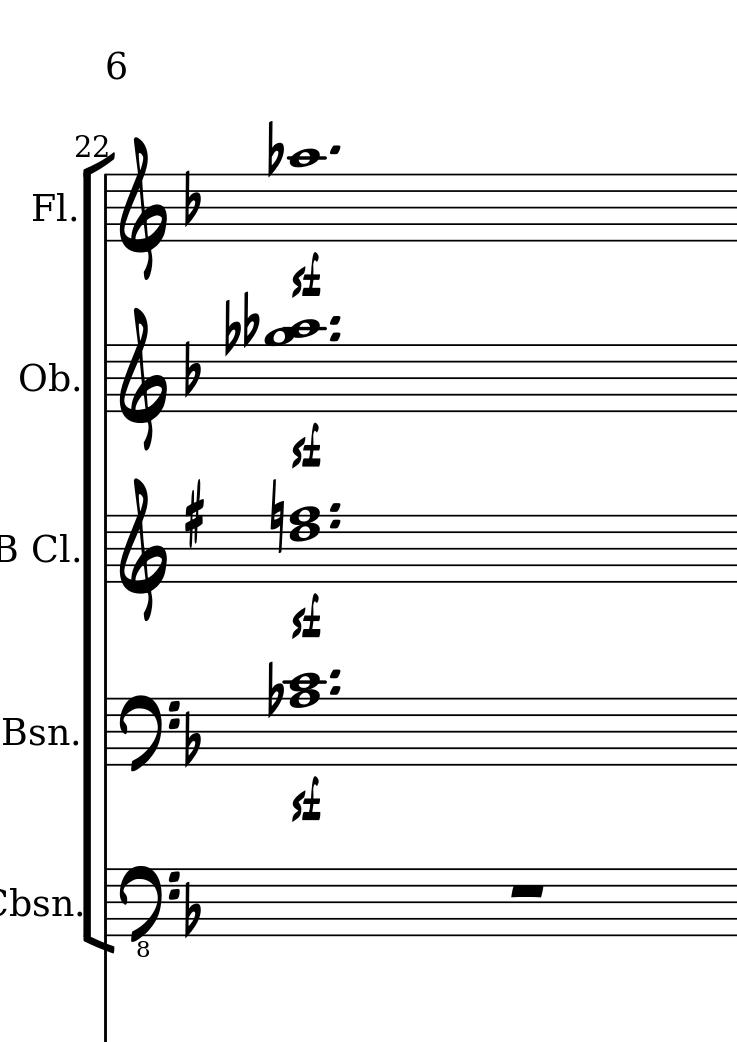1_10: (287, 146, 322, 244)
1_6_8: (287, 505, 321, 584)
1_8_10: (284, 671, 327, 766)
1_9_10: (265, 317, 325, 416)
2: (91, 132, 111, 157), (74, 133, 91, 158)
6: (106, 50, 127, 80)
Bracke: (80, 151, 118, 959)
Bsn: (3, 712, 73, 754)
Cl: (31, 528, 73, 568)
Fclef: (119, 692, 179, 775)
Fl: (30, 189, 70, 226)
Flat: (183, 708, 204, 770), (183, 878, 204, 940), (181, 168, 202, 229), (181, 339, 201, 399), (266, 657, 283, 721), (266, 119, 284, 178)
Gclef: (119, 476, 168, 621), (118, 306, 167, 451), (118, 137, 167, 282)
Lower_Fclef: (120, 863, 179, 959)
Natural: (269, 476, 286, 557)
Ob: (21, 358, 73, 398)
Rests1: (506, 880, 549, 902)
Sharp: (183, 478, 206, 548)
Single_barline: (98, 871, 115, 949), (98, 699, 116, 765), (99, 345, 115, 412), (99, 516, 114, 582), (99, 174, 113, 241)
dot: (327, 143, 343, 162), (326, 666, 343, 682), (327, 683, 343, 698), (327, 499, 342, 513), (328, 314, 342, 328), (327, 517, 341, 531), (328, 329, 342, 342)
sf: (290, 776, 323, 823), (290, 593, 322, 640), (292, 423, 322, 471), (291, 253, 322, 299)
